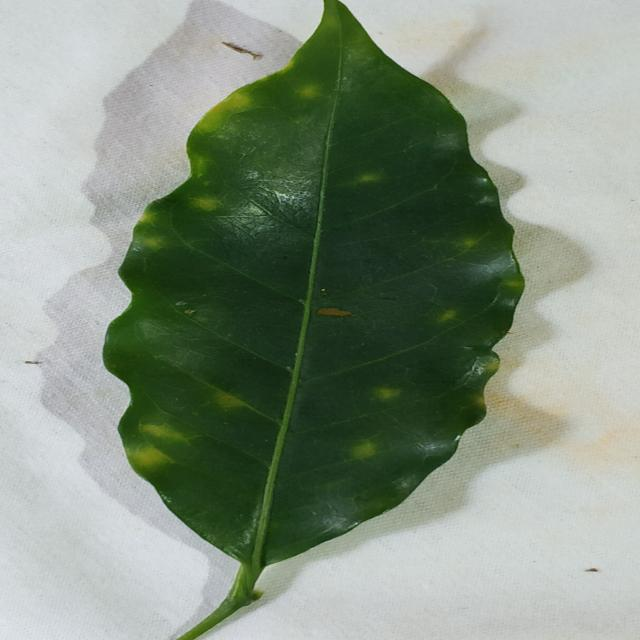Enfermedad-Roya: (102, 0, 525, 640)
